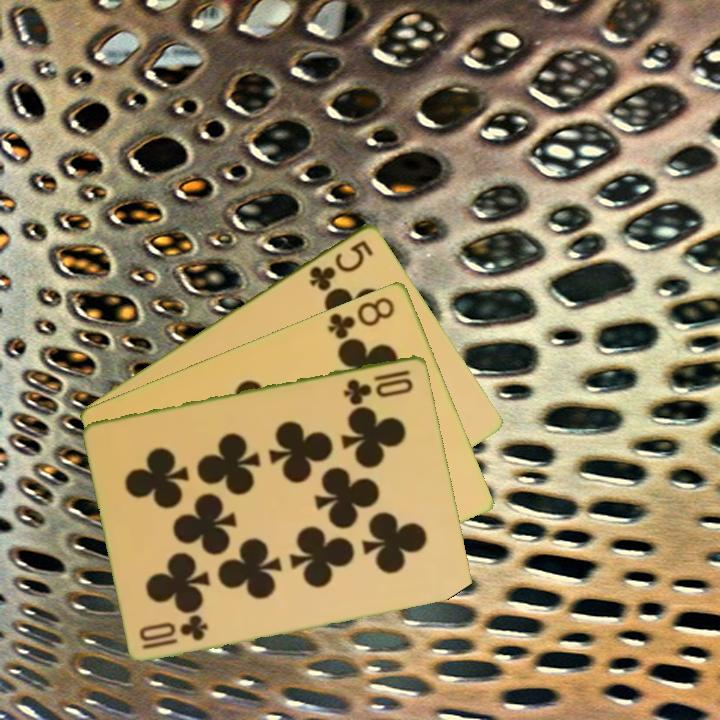10c: (340, 365, 416, 406), (138, 612, 211, 652)
5c: (306, 235, 376, 294)
8c: (324, 292, 398, 342)
